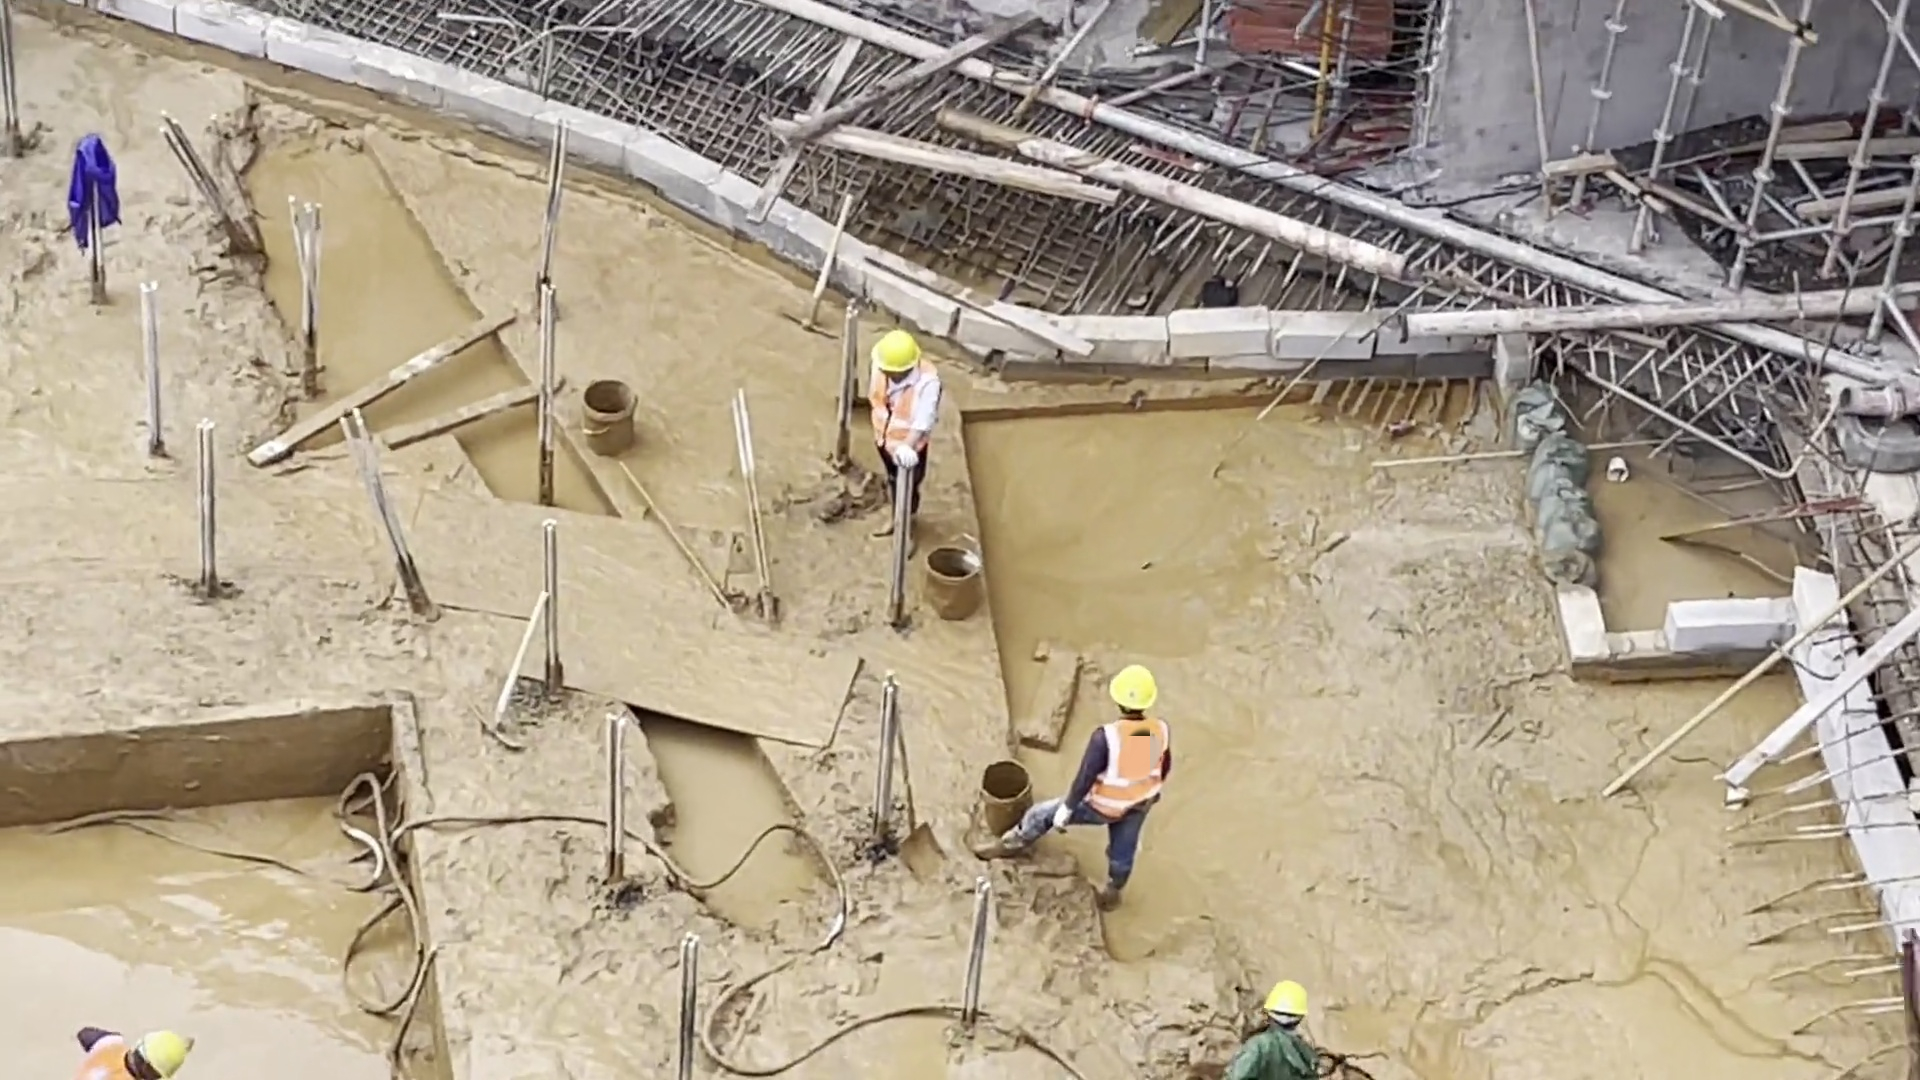helmet: (140, 1022, 195, 1072), (1259, 979, 1312, 1023), (1107, 665, 1156, 709), (871, 326, 923, 369)
person: (972, 661, 1174, 908), (858, 326, 947, 541), (1217, 978, 1347, 1080), (70, 1016, 211, 1080)
vest: (1089, 715, 1171, 819), (862, 367, 932, 463), (71, 1024, 140, 1080)
